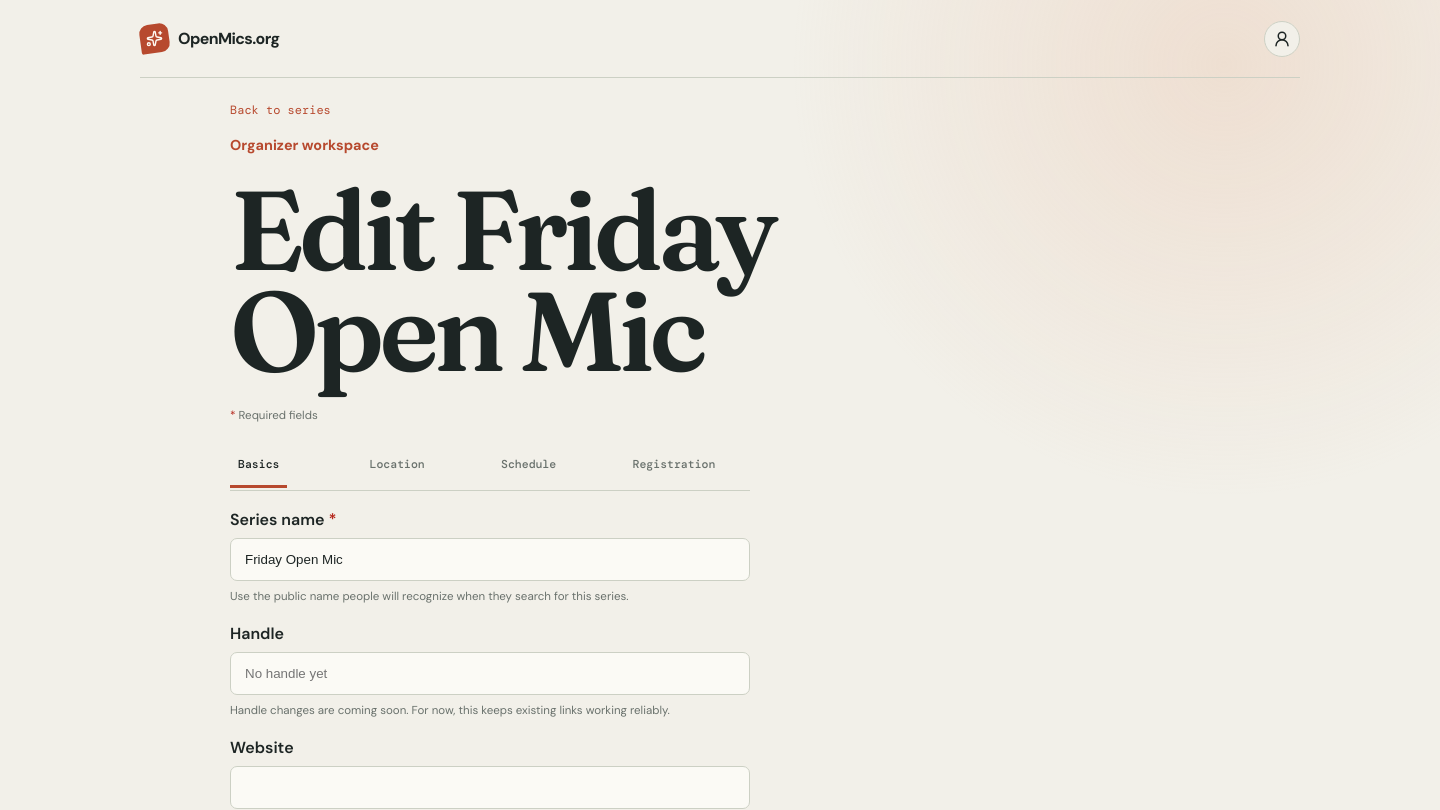
OpenMicFormPage cancellation › disables cancel when clean and confirms leaving with unsaved changes in an app modal
Check: the button "Discard changes" is not shown
Step 1. Replace the text in the field labelled "Series name *" with "Saturday Open Mic" → [490, 559], box [230,538,750,580]
(page scrolled)
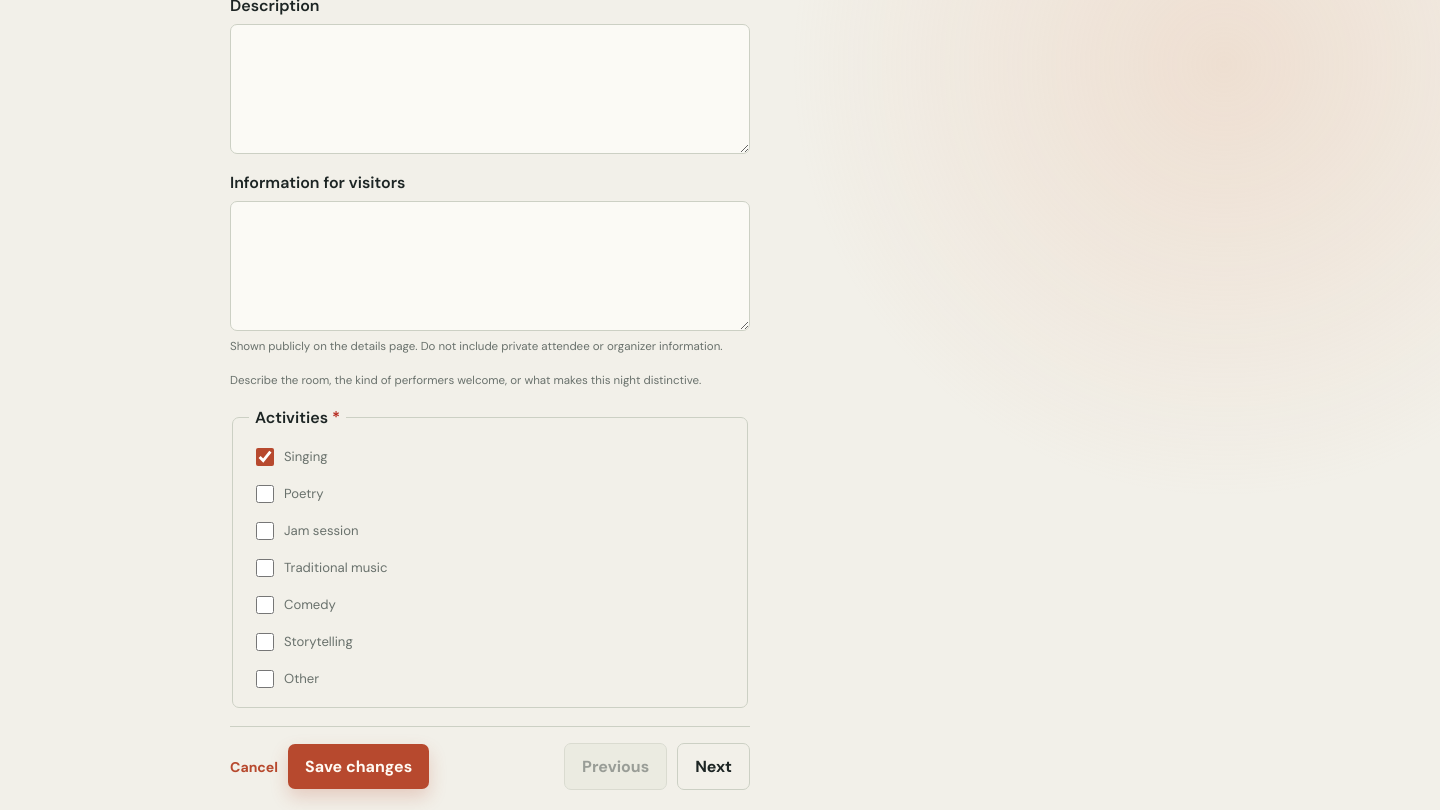
Check: the button "Cancel" is enabled
Check: the button "Save changes" is enabled, box [288,744,429,789]
Step 2. Click the button "Cancel" → [254, 767], box [230,749,278,785]
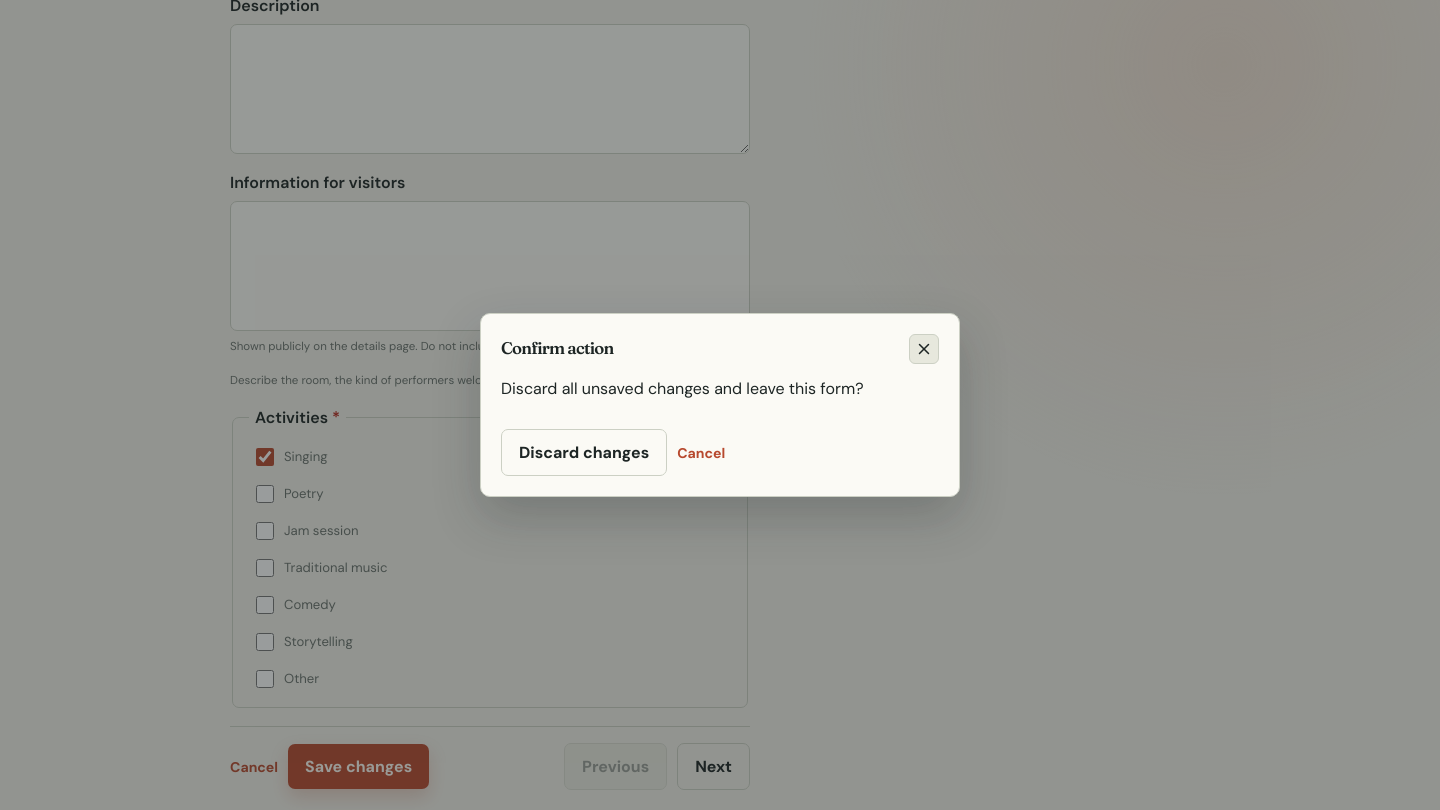
Check: the dialog "Confirm action" shows "Discard all unsaved changes and leave this form?", box [501,378,864,399]
Step 3. Click the button "Cancel" → [701, 452], box [677,429,725,476]
(page scrolled)
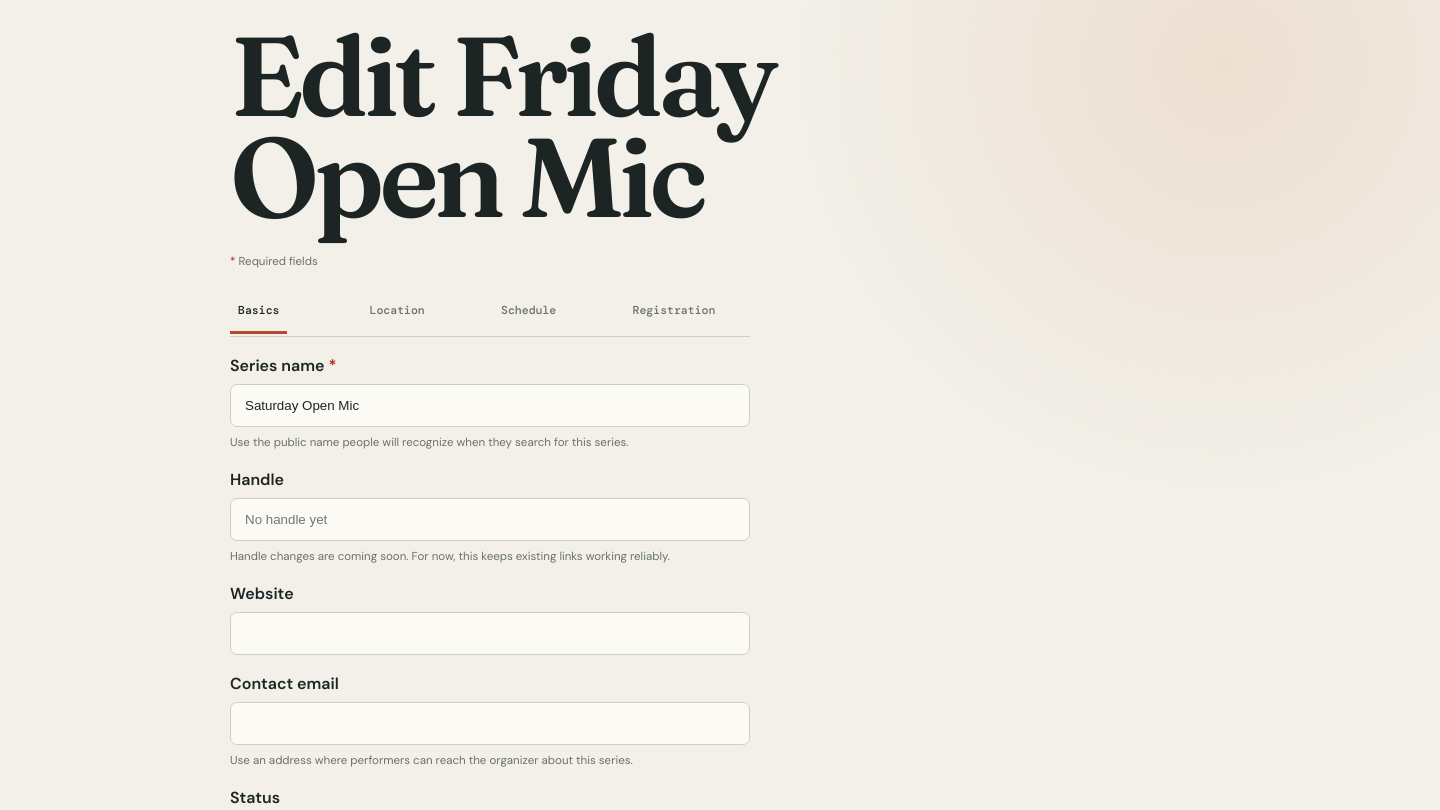
Check: the dialog is gone
